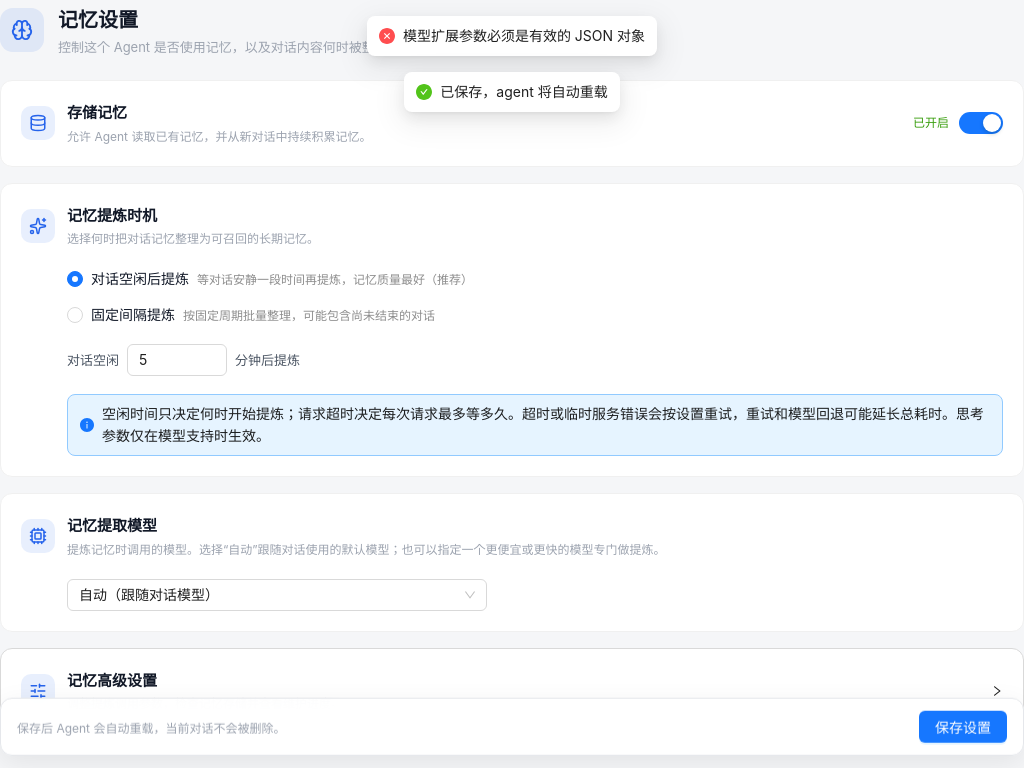
Test case: <MemorySettings /> › explains and disables unavailable options on an older runtime
The width and height of the screenshot is (1024, 768).
Click the text "记忆高级设置" at point(112, 680), box [67,671,157,690]
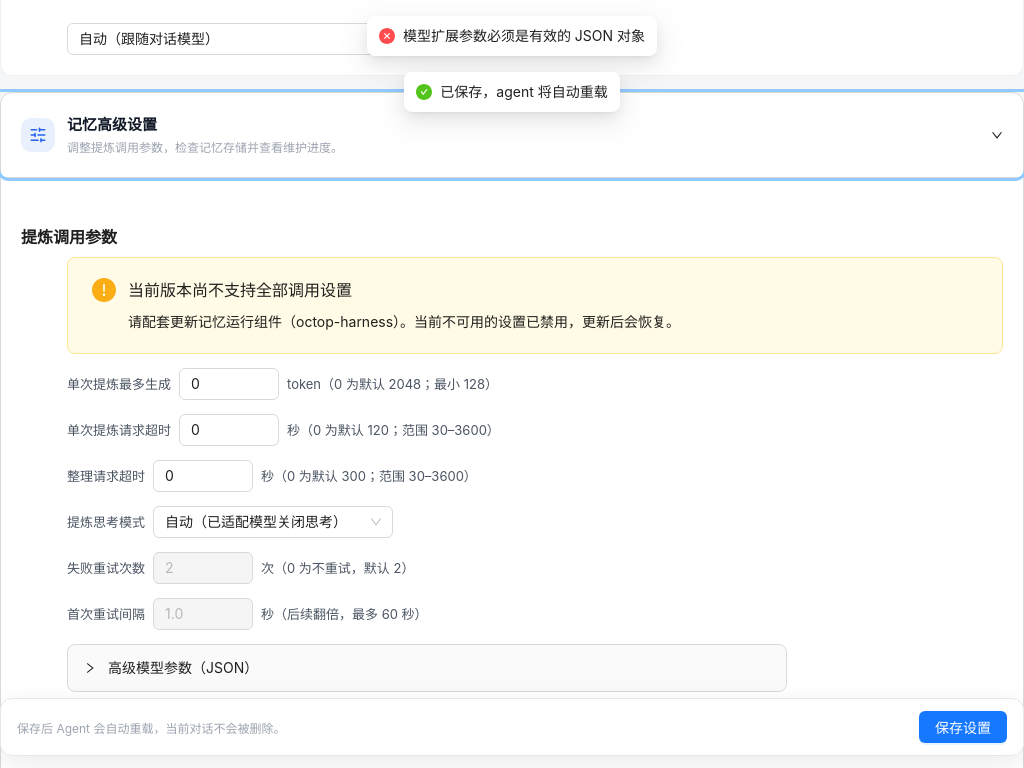
Expected: the number field named "单次提炼最多生成" is enabled, [180,369,278,399]
Expected: the text "当前版本尚不支持全部调用设置" is shown, [128,280,352,300]
Expected: the number field named "失败重试次数" is disabled, [154,553,252,583]
